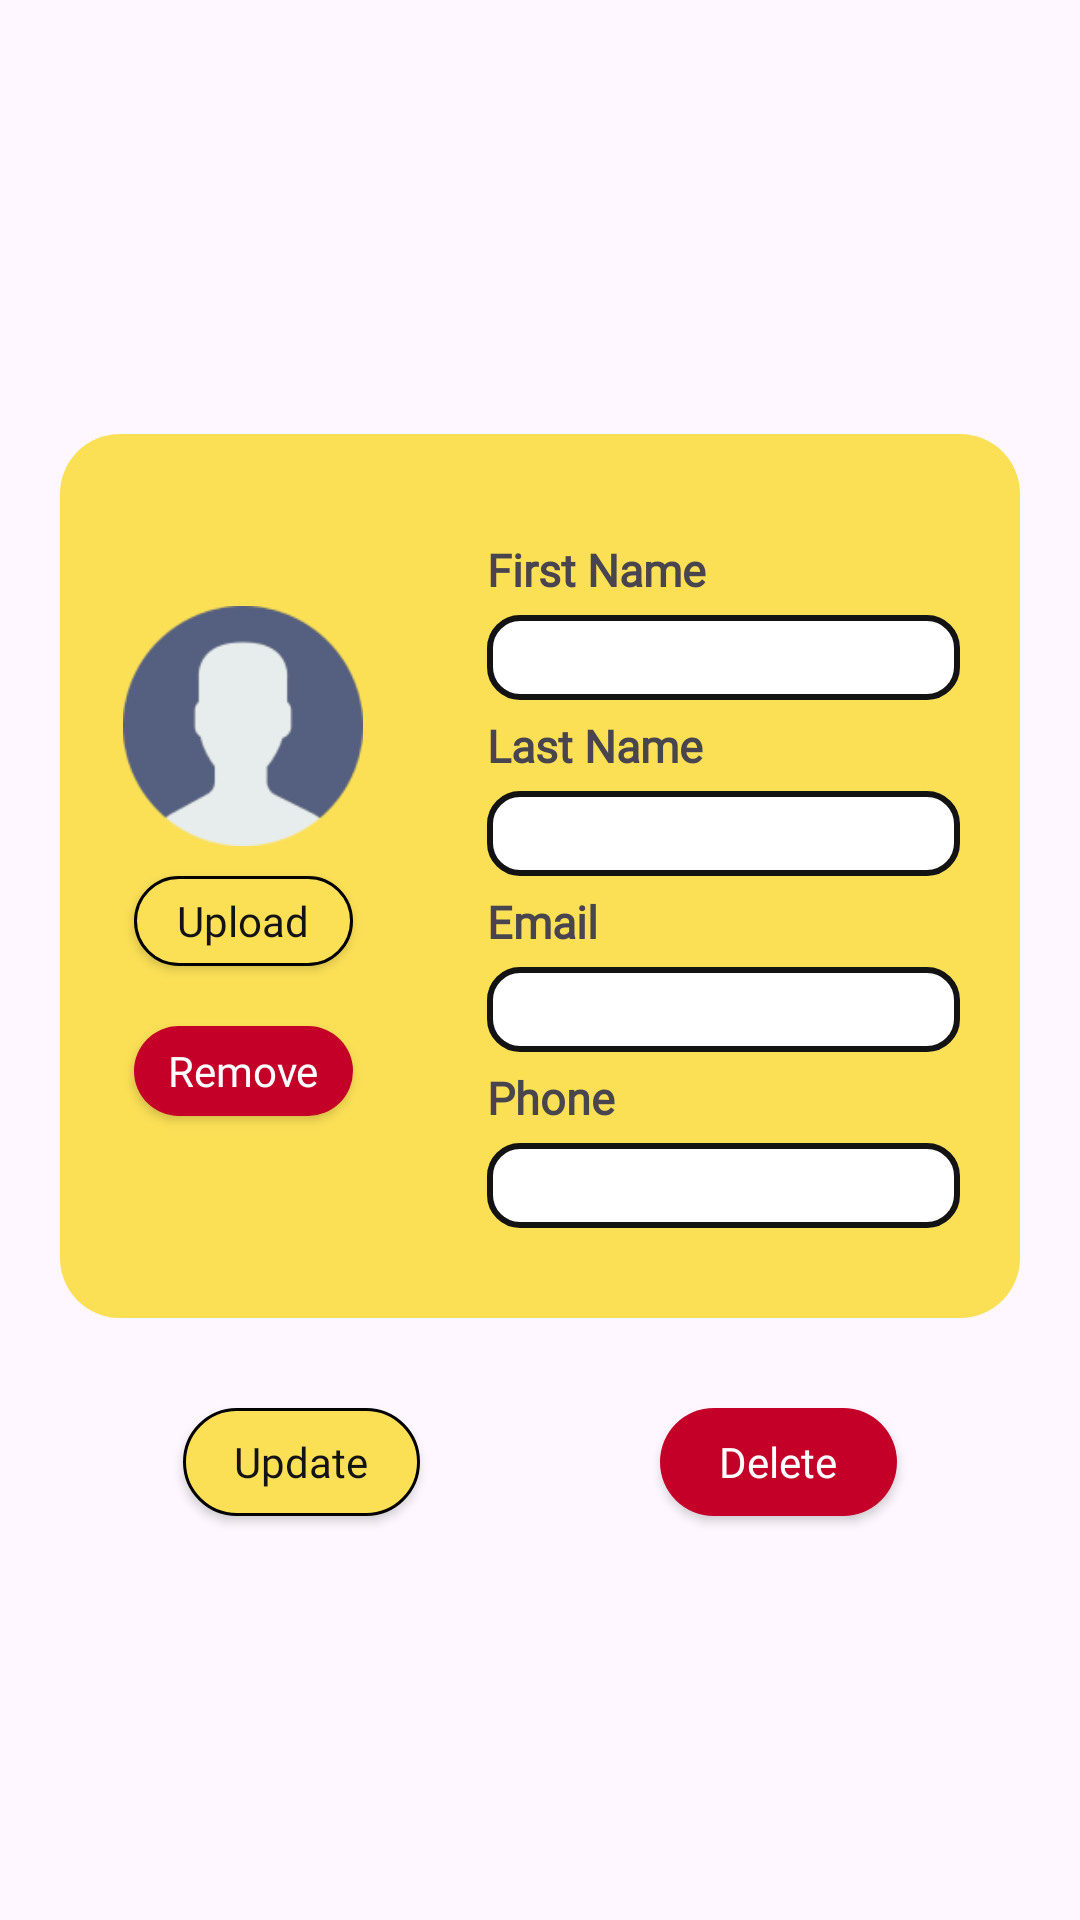

Point at icon controls on the screen. Image size 1080px×1920px, points as point (x, y).
no one: point (243, 726)
